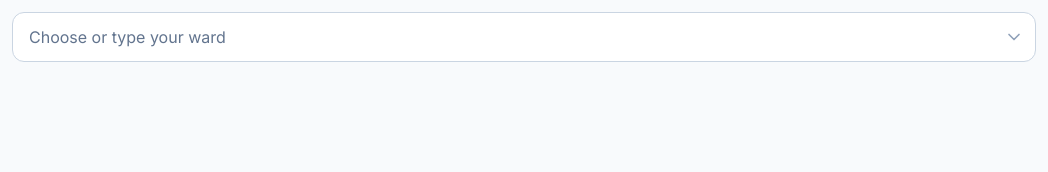
Test: #823 — the list is drawn by this application, not by the browser › AND A WARD THAT IS NOT ON THE REGISTER IS STILL KEPT
The image size is (1048, 172).
Step 1. Type "A Ward Nobody Listed" into the dropdown → [524, 37], box [12,12,1036,62]
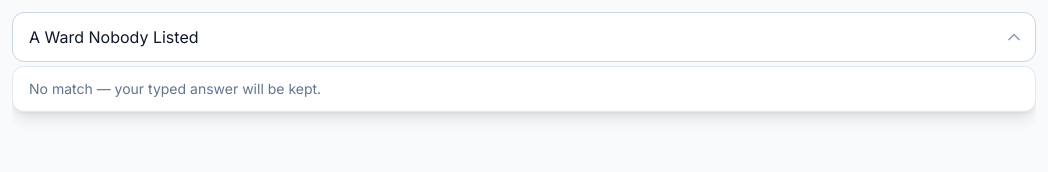
Expected: the list item "No match — your typed answer will be kept." is shown, [29,80,321,97]
